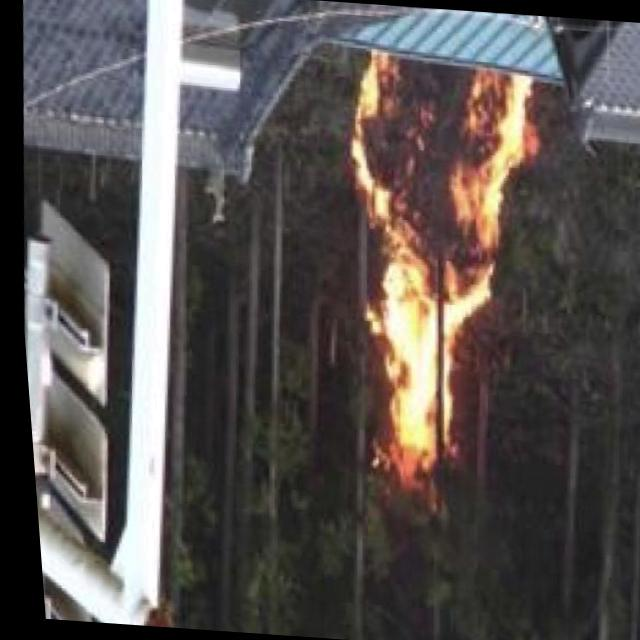fire: (312, 50, 556, 488)
